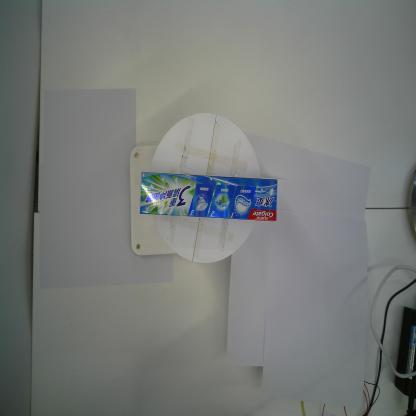Personal Hygiene: (139, 169, 279, 226)
